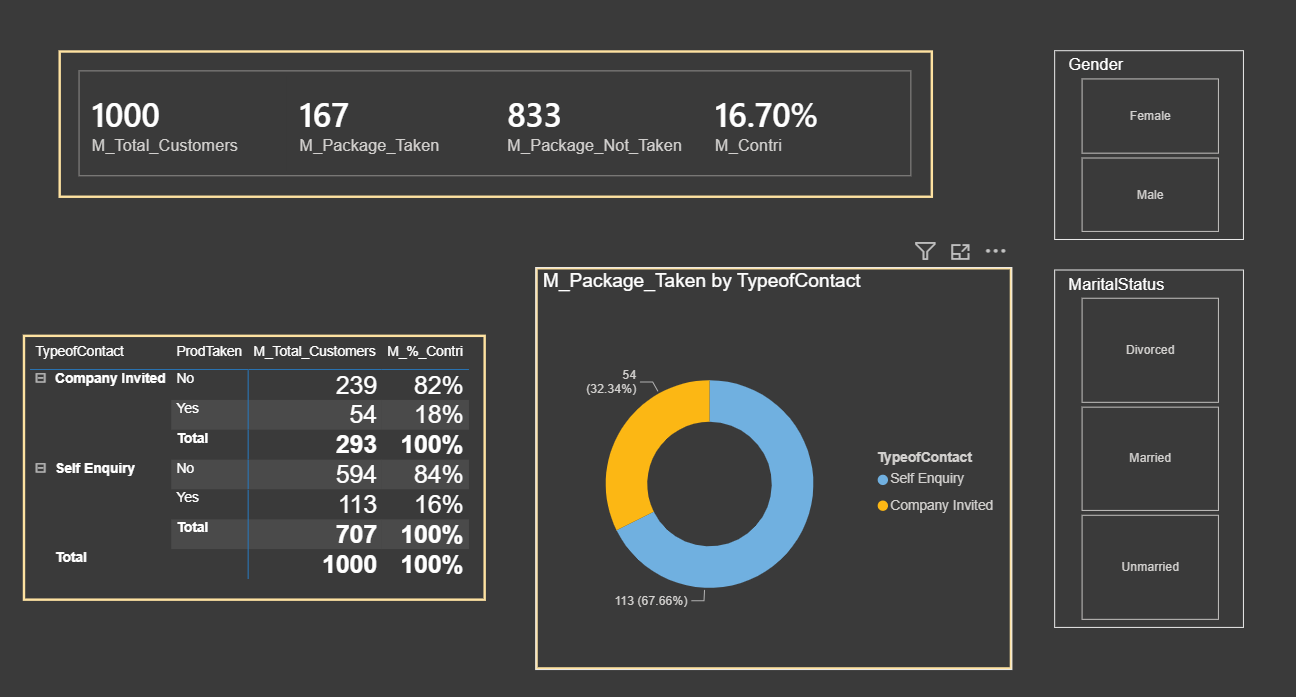

The dashboard page shown, as its layout file describes it:
{"tool":"powerbi","page":{"name":"Type of Contact","canvas":[1280,720],"ordinal":1},"visuals":[{"type":"cardVisual","fields":{"Data":["Tour_Data.M_Total_Customers","Tour_Data.M_Package_Taken","Tour_Data.M_Package_Not_Taken","Tour_Data.M_Contri"]},"box":[60.7,64.5,850.3,143.8],"z":0},{"type":"slicer","fields":{"Values":["Tour_Data.Gender"]},"box":[1028.8,64.5,184.7,184.7],"z":1000},{"type":"pivotTable","fields":{"Rows":["Tour_Data.TypeofContact","Tour_Data.ProdTaken"],"Values":["Tour_Data.M_Total_Customers","Tour_Data.M_%_Contri"]},"box":[26,340.9,449.9,259.1],"z":2000},{"type":"donutChart","fields":{"Y":["Tour_Data.M_Package_Taken"],"Category":["Tour_Data.TypeofContact"]},"box":[524.3,275.2,463.6,391.7],"z":3000},{"type":"slicer","fields":{"Values":["Tour_Data.MaritalStatus"]},"box":[1028.8,277.6,184.7,348.3],"z":4000}]}

Visuals, with their boxes on the page's 1280x720 design canvas (x1, y1, x2, y2). These are canvas units, not pixel positions in the 1296x697 screenshot, which may show the page scaled, cropped or inside an application window:
cardVisual - Tour_Data.M_Total_Customers x Tour_Data.M_Package_Taken: region(61, 64, 911, 208)
slicer - Tour_Data.Gender: region(1029, 64, 1214, 249)
pivotTable - Tour_Data.TypeofContact x Tour_Data.ProdTaken: region(26, 341, 476, 600)
donutChart - Tour_Data.M_Package_Taken x Tour_Data.TypeofContact: region(524, 275, 988, 667)
slicer - Tour_Data.MaritalStatus: region(1029, 278, 1214, 626)
